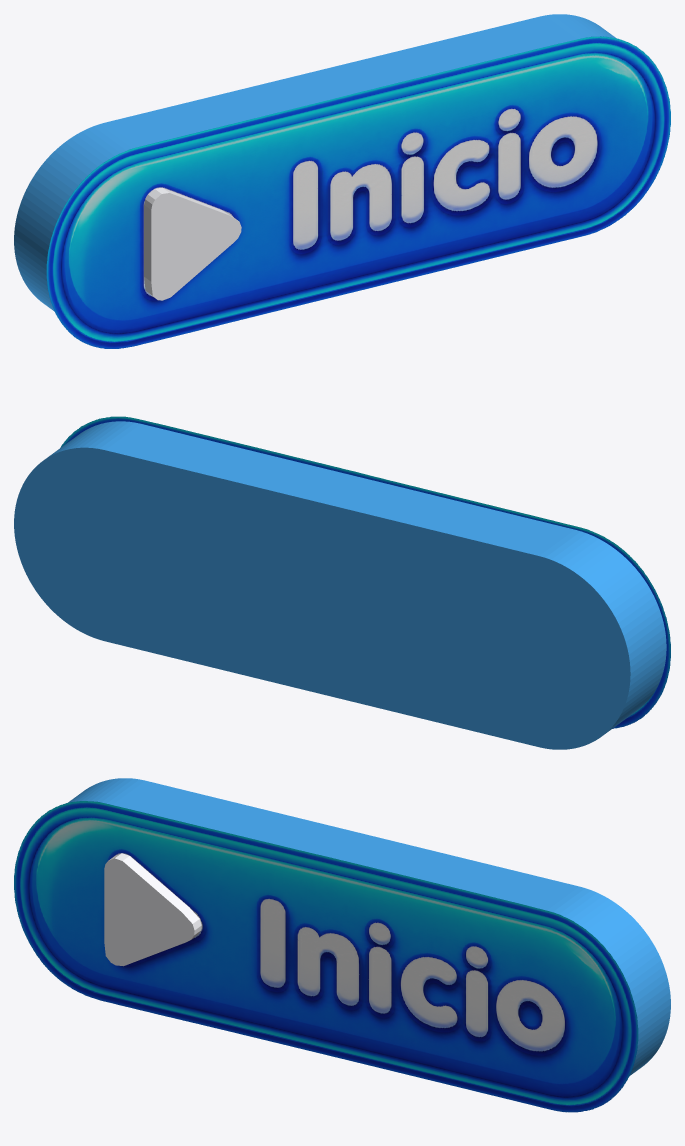
Rendered from boton_inicio.glb.
The picture shows the model from 3 angles, top to bottom: view 1: azimuth 30°, elevation 25°; view 2: azimuth 150°, elevation 25°; view 3: azimuth 330°, elevation 25°; orthographic projection.
Parts seen in each view (by area): view 1: Boton_textura, Boton_cuerpo, Boton_triangulo; view 2: Boton_cuerpo, Boton_textura; view 3: Boton_textura, Boton_cuerpo, Boton_triangulo.
Boxes of the visible parts, <box> form: Boton_textura: <box>46,36,670,348</box>; Boton_cuerpo: <box>14,14,615,311</box>; Boton_triangulo: <box>144,187,241,300</box>; Boton_cuerpo: <box>14,421,666,749</box>; Boton_textura: <box>60,416,670,728</box>; Boton_textura: <box>14,801,638,1112</box>; Boton_cuerpo: <box>68,778,670,1075</box>; Boton_triangulo: <box>104,853,201,966</box>.
Size of the model in its own units: 0.3 by 0.0915 by 0.0364.
Materials: 3 (1 with a texture image).
